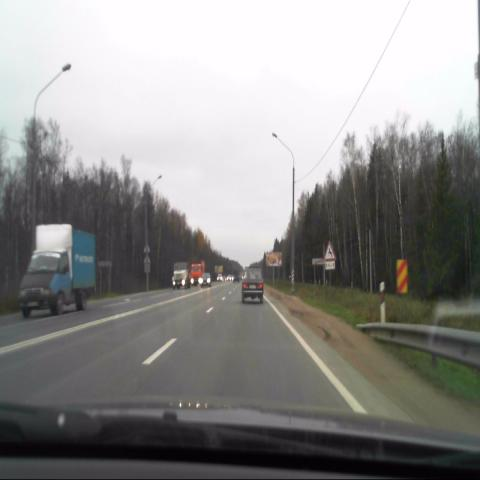1_27: (323, 241, 336, 261)
